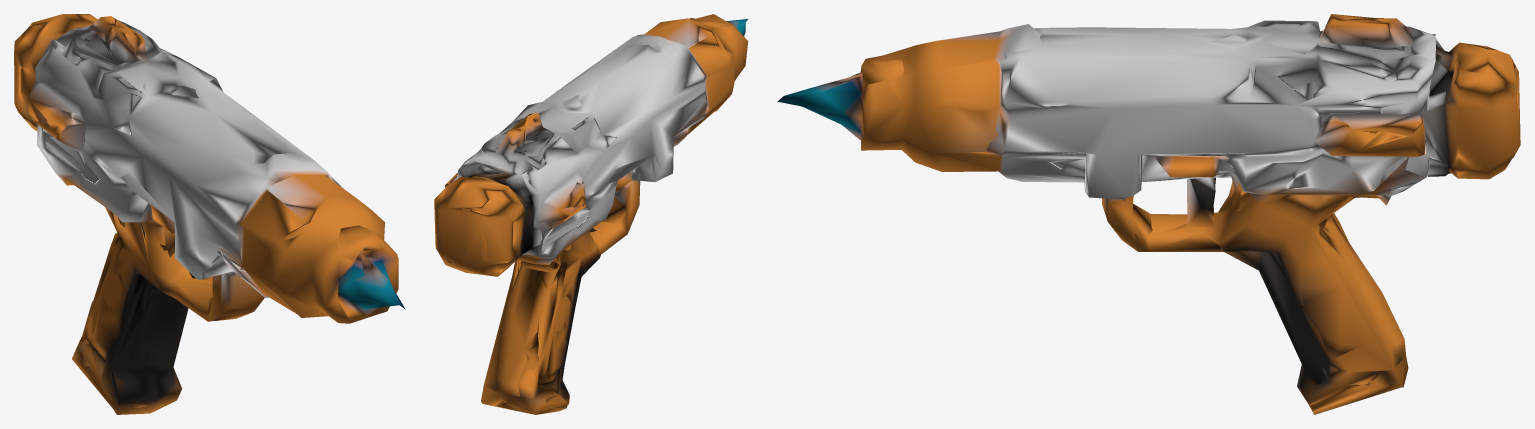
Rendered from gen3d-laser-gun-lod0.glb.
The picture shows the model from 3 angles, left to right: view 1: azimuth 30°, elevation 25°; view 2: azimuth 150°, elevation 25°; view 3: azimuth 270°, elevation 25°; orthographic projection. The views are drawn at different scales.
Visible parts, largest first — view 1: part_0; view 2: part_0; view 3: part_0.
Boxes of the visible parts, x1=… form: part_0: x1=14, y1=14, x2=405, y2=414; part_0: x1=434, y1=14, x2=748, y2=414; part_0: x1=777, y1=14, x2=1520, y2=414.
Bounding box in the file's own units: 0.4051 × 0.9997 × 1.75.
